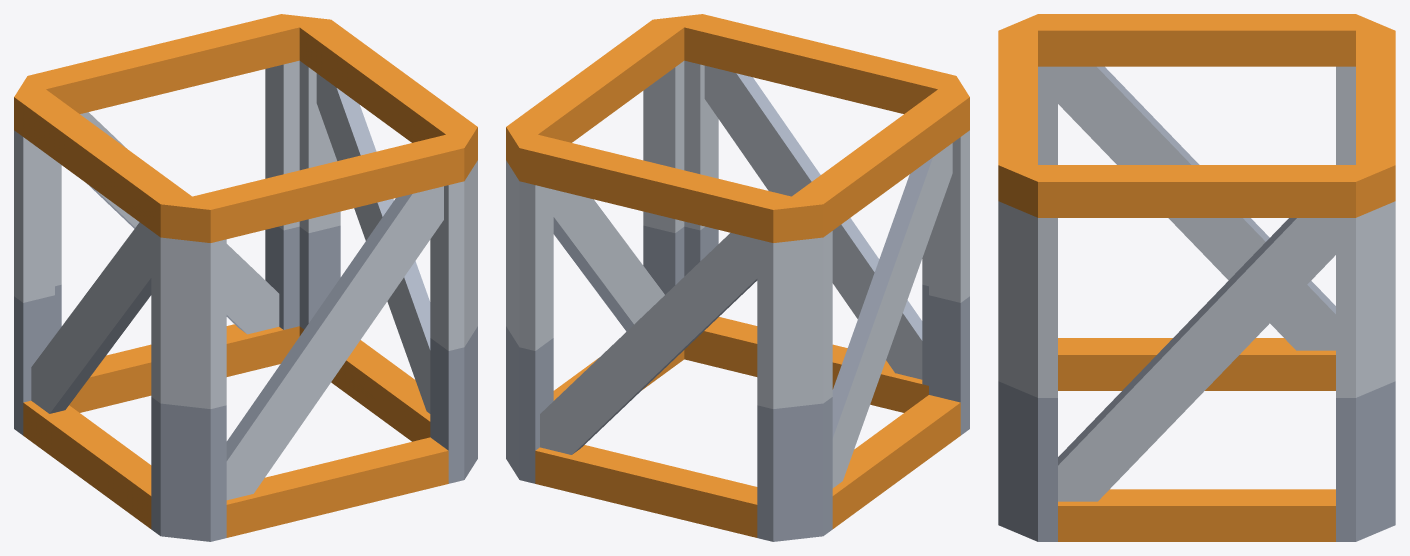
Rendered from structure_diagonal.dae.
3 renders of one model, left to right at view 1: azimuth 30°, elevation 25°; view 2: azimuth 150°, elevation 25°; view 3: azimuth 270°, elevation 25°, orthographic. The views are drawn at different scales.
Visible parts, largest first — view 1: structure_diagonal; view 2: structure_diagonal; view 3: structure_diagonal.
Part boxes in pixels (x1,y1,x2,y2): structure_diagonal: [14, 14, 477, 541]; structure_diagonal: [506, 14, 969, 541]; structure_diagonal: [998, 14, 1395, 541].
Size of the model in its own units: 1 by 1 by 1.
